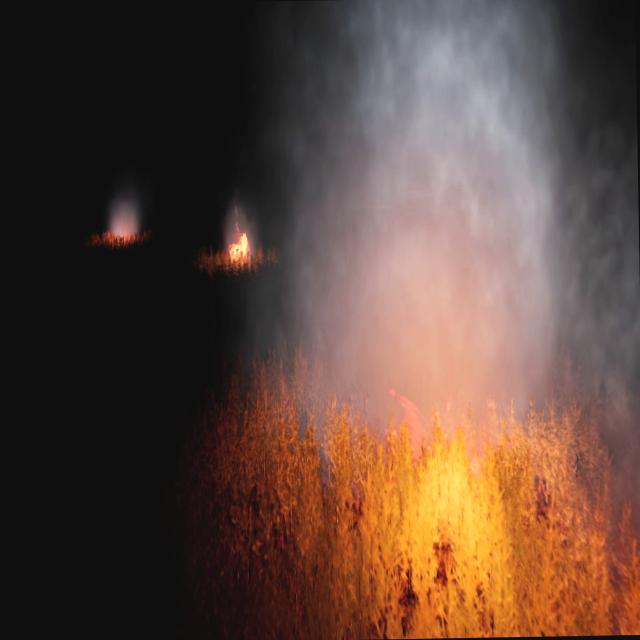fire: (231, 339, 640, 640), (226, 232, 254, 266)
smoke: (245, 0, 640, 451), (225, 198, 260, 252), (108, 187, 142, 236)
